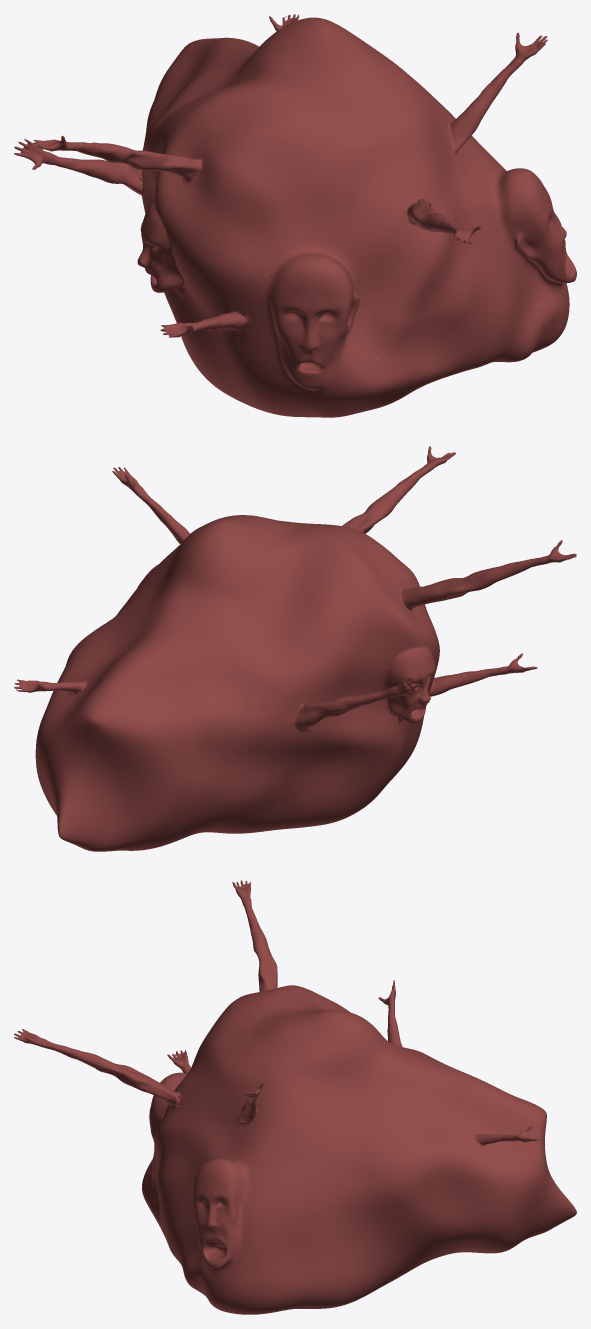
File: FleshBlob01.fbx
3 views of the same model, one above another, from view 1: azimuth 30°, elevation 25°; view 2: azimuth 150°, elevation 25°; view 3: azimuth 270°, elevation 25° (orthographic). The views are drawn at different scales.
Parts seen in each view (by area): view 1: Sphere.003; view 2: Sphere.003; view 3: Sphere.003.
Boxes of the visible parts, left/top/right/bottom form: Sphere.003: left=14, top=14, right=576, bottom=417; Sphere.003: left=14, top=446, right=576, bottom=851; Sphere.003: left=14, top=880, right=576, bottom=1314.
Bounding box in the file's own units: 1032 × 637 × 1225.
